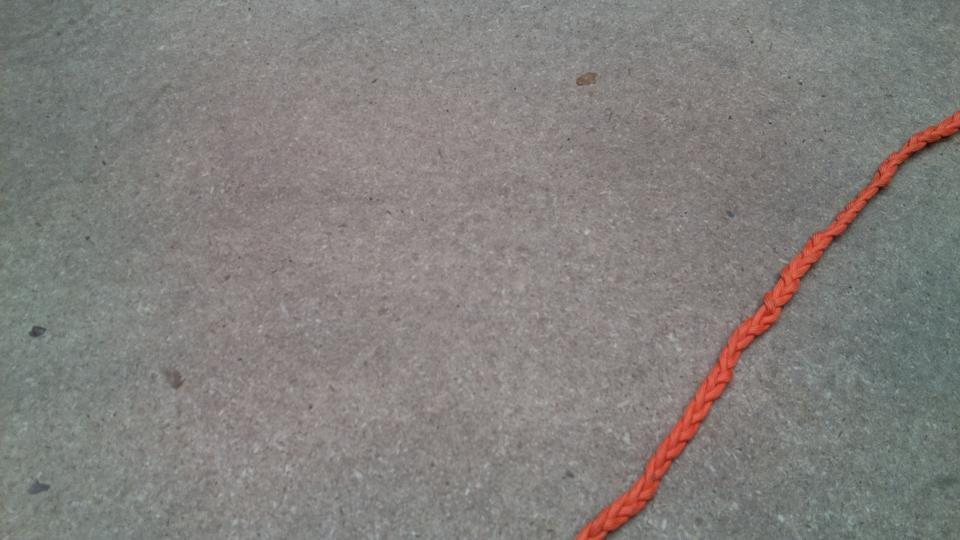rope: (596, 119, 956, 540)
